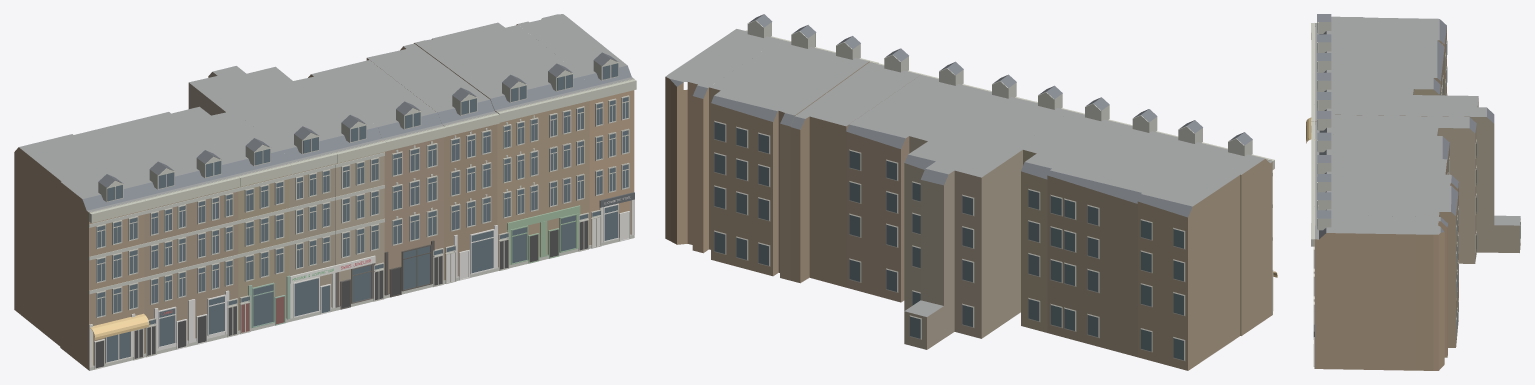
The model's file is chunk-face-kinker-86-110.glb.
3 views of the same model, side by side, from view 1: azimuth 30°, elevation 25°; view 2: azimuth 150°, elevation 25°; view 3: azimuth 270°, elevation 25° (orthographic). The views are drawn at different scales.
Parts seen in each view (by area): view 1: face-kinker-86-110; view 2: face-kinker-86-110; view 3: face-kinker-86-110.
Boxes of the visible parts, x1,y1,x2,y2 form: face-kinker-86-110: [14, 14, 636, 370]; face-kinker-86-110: [665, 14, 1277, 370]; face-kinker-86-110: [1306, 14, 1520, 370].
Bounding box in the file's own units: 51.65 × 16.46 × 21.4.
